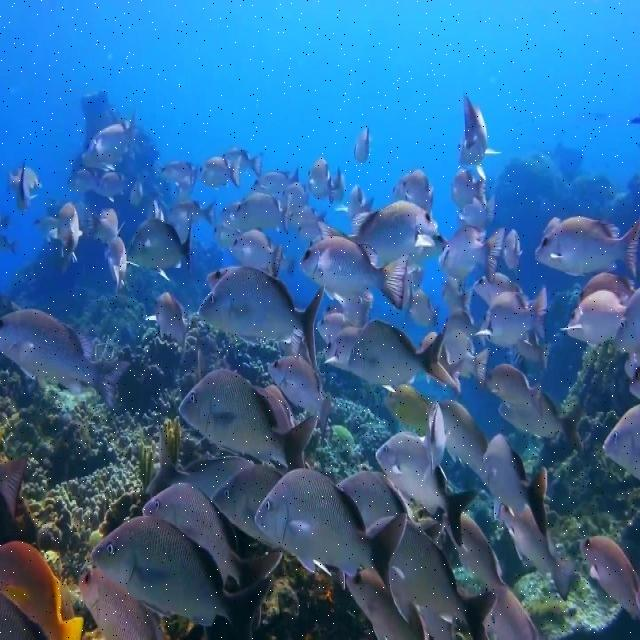fish: (253, 468, 409, 624), (91, 516, 271, 639), (178, 369, 319, 470), (198, 267, 325, 378), (0, 308, 128, 410), (376, 432, 485, 547), (300, 237, 412, 311), (350, 319, 461, 391), (498, 504, 578, 600), (533, 212, 639, 283), (484, 435, 549, 536), (499, 392, 587, 453), (268, 356, 331, 438), (471, 283, 548, 349), (581, 535, 639, 620), (461, 516, 516, 603), (560, 291, 639, 350), (353, 202, 439, 254), (126, 211, 193, 276), (457, 95, 501, 182), (440, 225, 504, 282), (153, 293, 199, 365), (83, 111, 137, 171), (488, 363, 543, 414), (230, 229, 285, 276), (234, 194, 291, 235), (46, 204, 83, 263), (307, 156, 346, 206), (385, 385, 428, 428), (392, 169, 435, 210), (424, 404, 450, 464), (200, 154, 241, 189), (8, 165, 42, 206), (453, 170, 486, 211), (90, 208, 127, 244), (105, 239, 129, 291), (504, 230, 524, 276), (161, 161, 194, 183), (354, 126, 370, 164)
